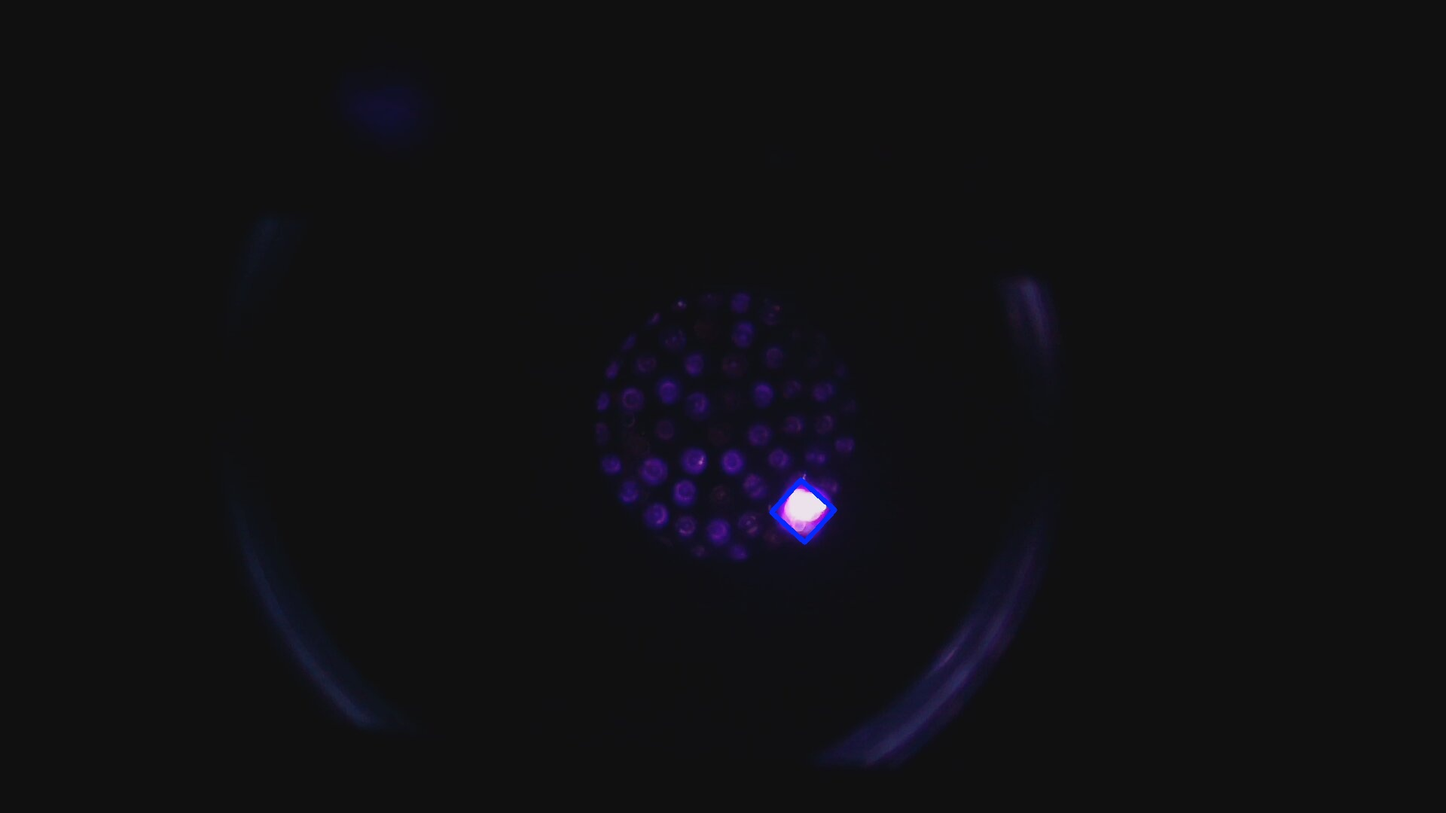plastic: (775, 483, 832, 540)
